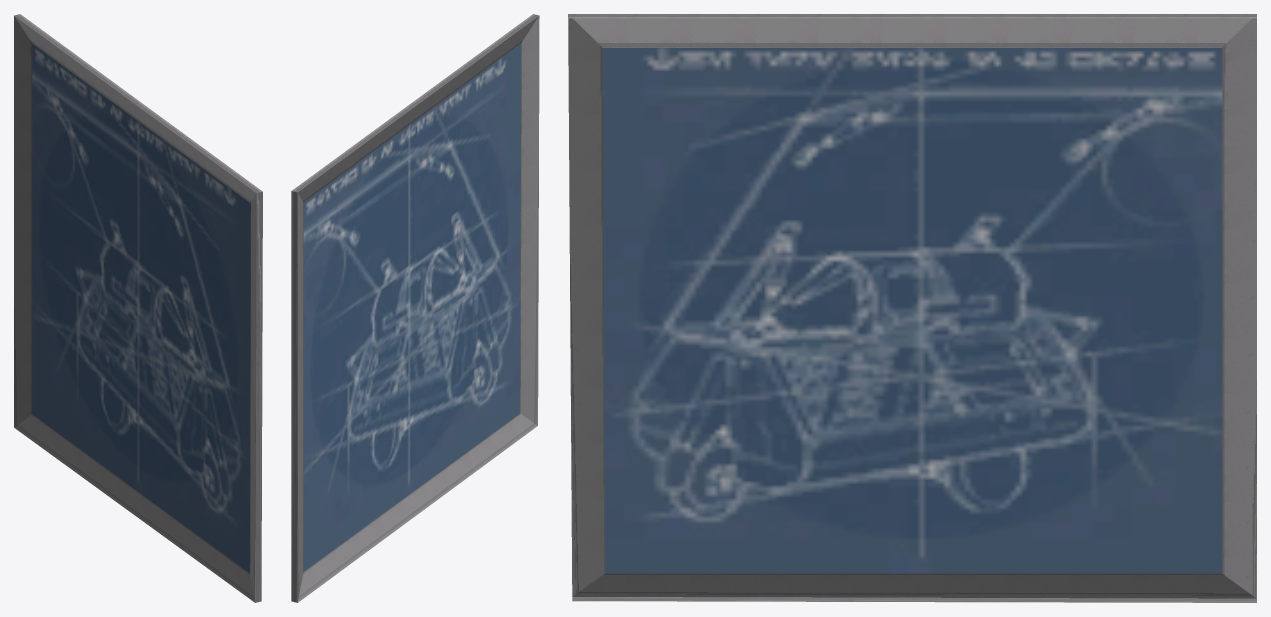
File: frn_all_painting_schematic_droid.fbx
3 views of the same model, side by side, from view 1: azimuth 30°, elevation 25°; view 2: azimuth 150°, elevation 25°; view 3: azimuth 270°, elevation 25° (orthographic). The views are drawn at different scales.
Parts seen in each view (by area): view 1: mesh_node; view 2: mesh_node; view 3: mesh_node.
Part boxes in pixels (x1,y1,x2,y2): mesh_node: [14, 14, 262, 602]; mesh_node: [291, 14, 539, 602]; mesh_node: [568, 14, 1256, 602].
Bounding box in the file's own units: 0.0155 × 0.9702 × 1.04.
Materials: 2 (2 with a texture image).
